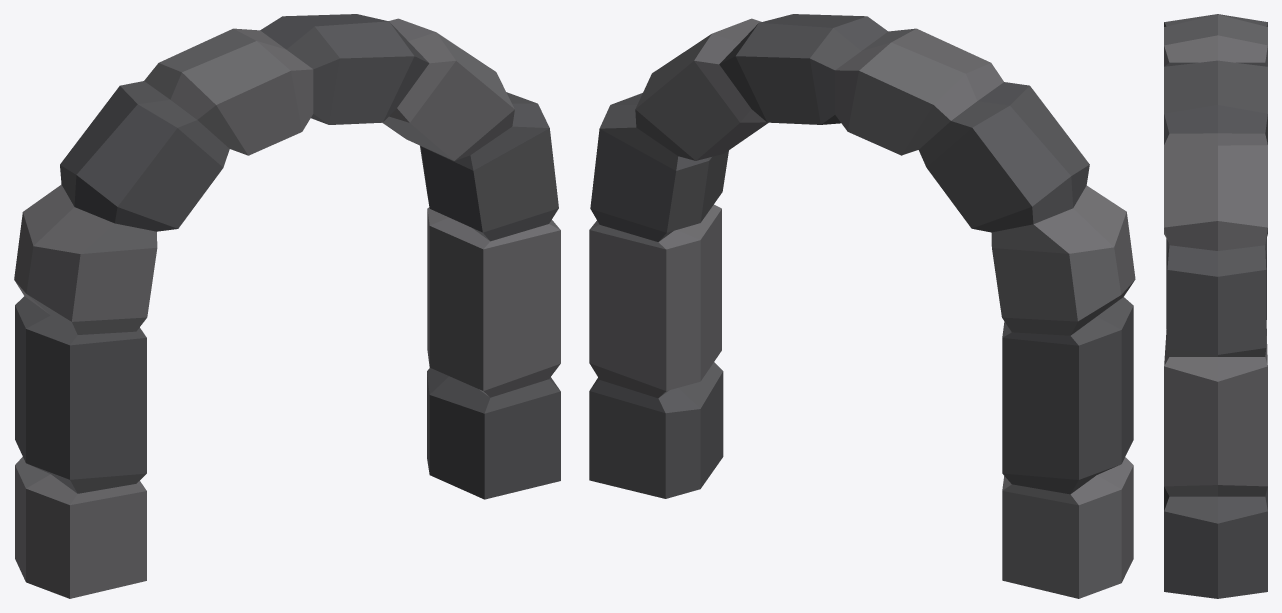
The model's file is SM_Bld_Castle_Door_01.gltf.
3 renders of one model, left to right at view 1: azimuth 30°, elevation 25°; view 2: azimuth 150°, elevation 25°; view 3: azimuth 270°, elevation 25°, orthographic. The views are drawn at different scales.
Parts seen in each view (by area): view 1: SM_Bld_Castle_Door_01; view 2: SM_Bld_Castle_Door_01; view 3: SM_Bld_Castle_Door_01.
Part boxes in pixels (<box>): SM_Bld_Castle_Door_01: <box>14,14,560,598</box>; SM_Bld_Castle_Door_01: <box>589,14,1135,598</box>; SM_Bld_Castle_Door_01: <box>1164,14,1267,598</box>.
Bounding box in the file's own units: 3.44 × 3.06 × 0.6597.
Materials: 1 (1 with a texture image).
